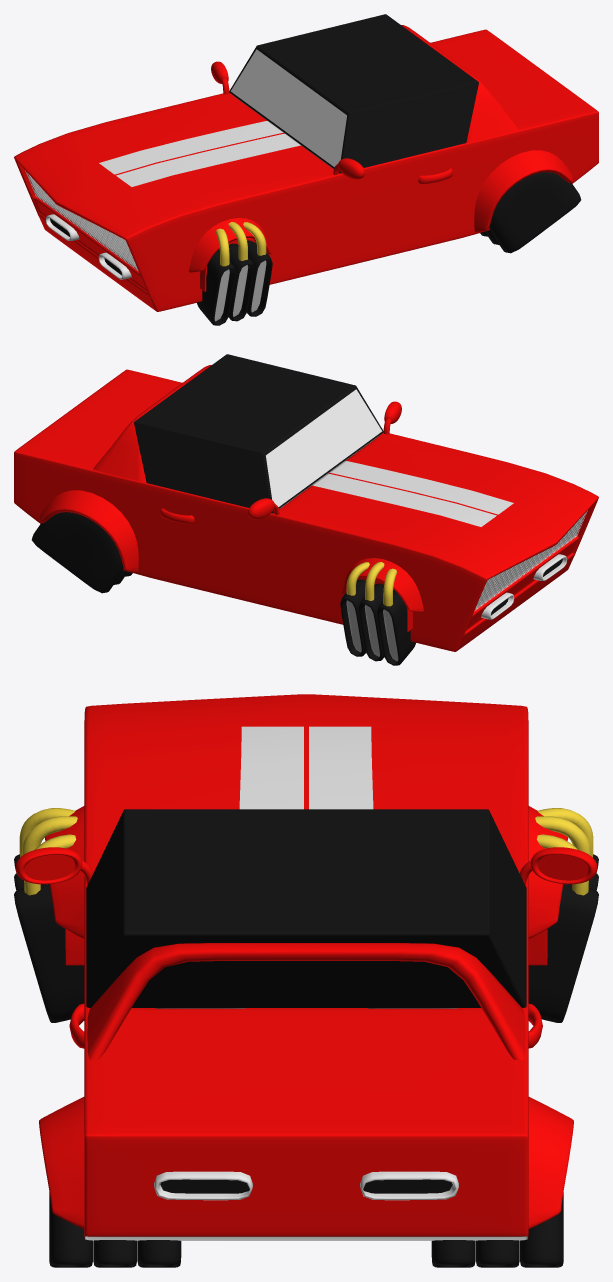
The model's file is FlyingCar_ok.fbx.
3 views of the same model, one above another, from view 1: azimuth 30°, elevation 25°; view 2: azimuth 150°, elevation 25°; view 3: azimuth 270°, elevation 25° (orthographic). The views are drawn at different scales.
Visible parts, largest first — view 1: Car, top, frontGlass, frontEngine_02, backEngine_01; view 2: Car, top, frontGlass, frontEngine_01, backEngine_02; view 3: Car, top, frontEngine_01, frontEngine_02, backEngine_01, backEngine_02.
Part boxes in pixels (x1,y1,x2,y2): Car: [14, 25, 598, 311]; top: [229, 14, 478, 173]; frontGlass: [230, 49, 346, 166]; frontEngine_02: [197, 222, 272, 325]; backEngine_01: [480, 172, 581, 253]; Car: [14, 365, 598, 651]; top: [134, 354, 383, 513]; frontGlass: [266, 389, 382, 506]; frontEngine_01: [340, 562, 415, 665]; backEngine_02: [31, 512, 132, 593]; Car: [15, 694, 597, 1240]; top: [86, 809, 526, 1007]; frontEngine_01: [528, 808, 598, 1022]; frontEngine_02: [14, 808, 84, 1022]; backEngine_01: [49, 1192, 181, 1267]; backEngine_02: [431, 1192, 563, 1267].
Size of the model in its own units: 12559 by 3996 by 6579.
